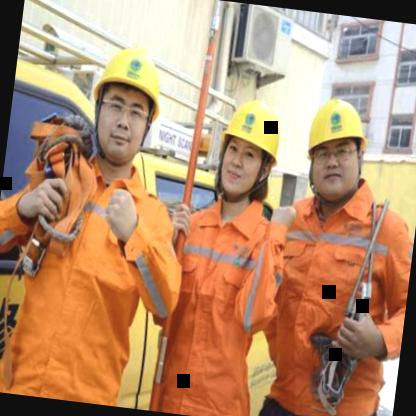helmet: (79, 33, 174, 175), (290, 79, 382, 214), (206, 84, 293, 211)
